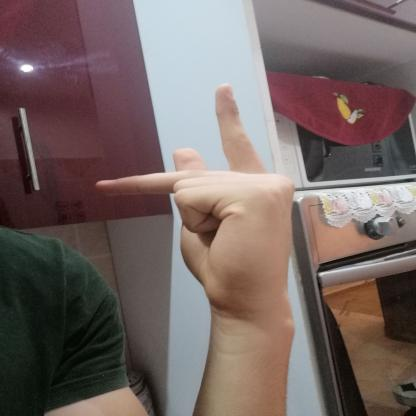DHAA: (78, 76, 314, 329)
